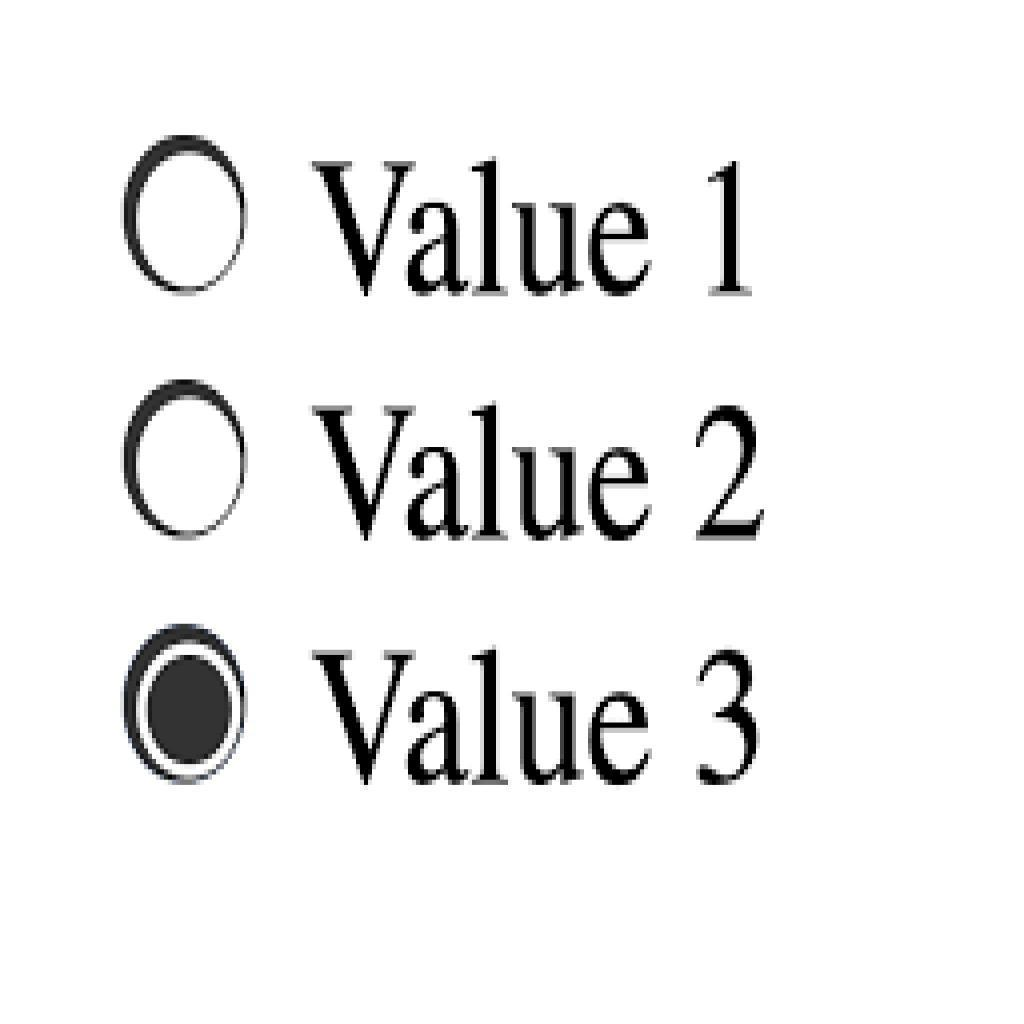label: (297, 637, 765, 804), (306, 393, 766, 552), (304, 154, 752, 307)
radio: (113, 366, 259, 545), (114, 129, 257, 300), (115, 615, 252, 791)
